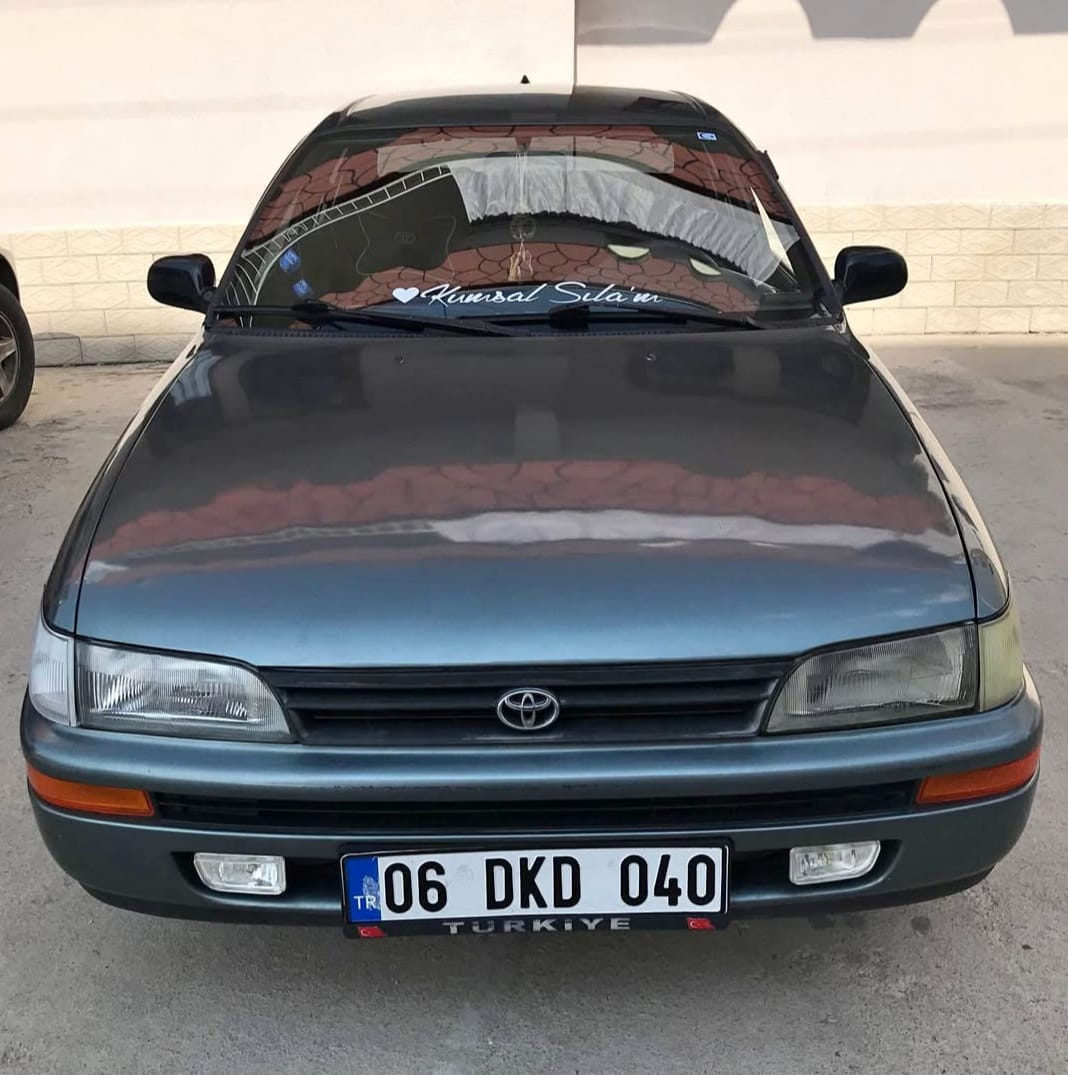plaka: (379, 837, 730, 921)
